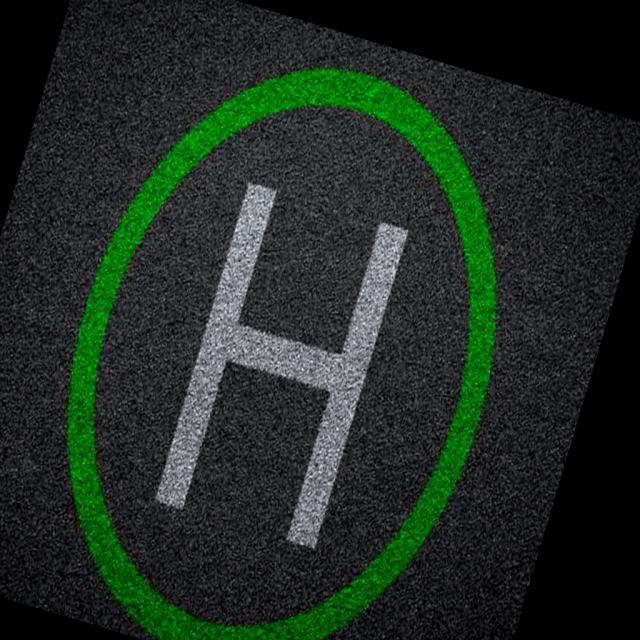helipad: (58, 60, 510, 639)
